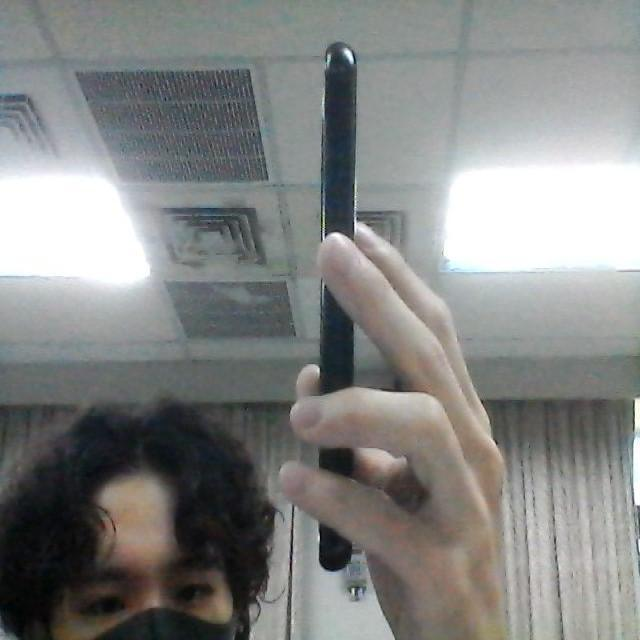phone: (318, 31, 364, 588)
